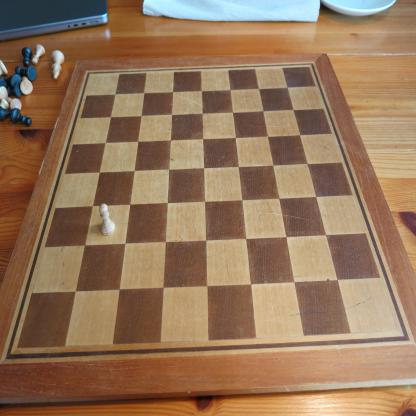white-pawn: (95, 199, 117, 237)
